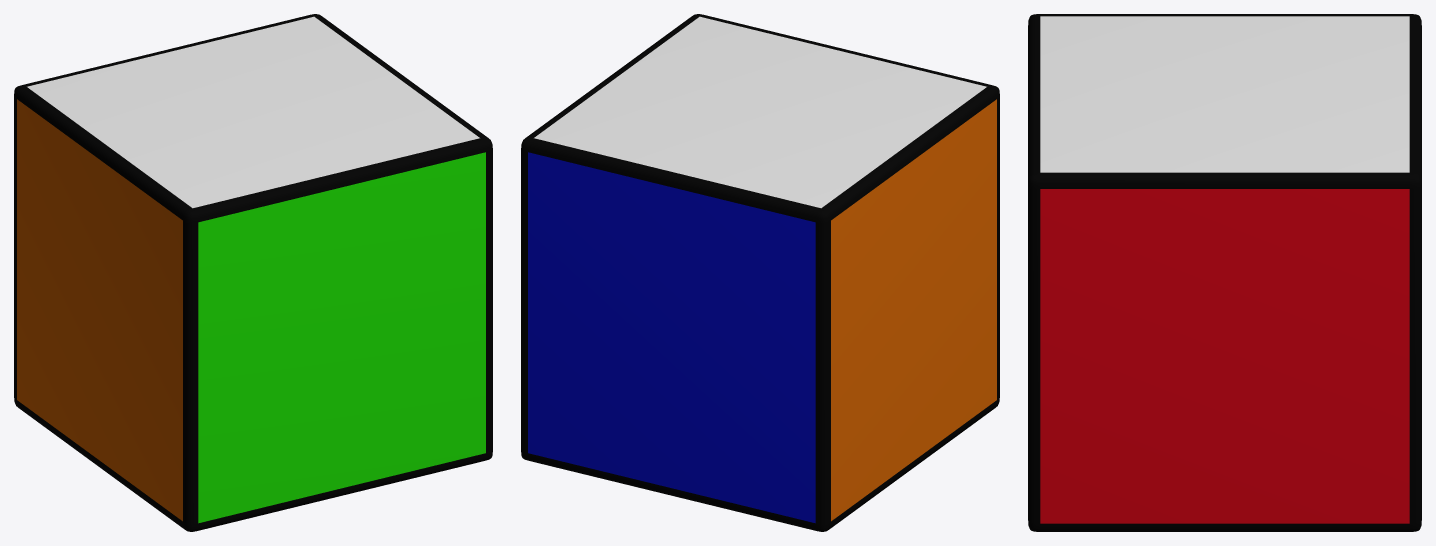
Rendered from RubixFBX.fbx.
3 renders of one model, left to right at view 1: azimuth 30°, elevation 25°; view 2: azimuth 150°, elevation 25°; view 3: azimuth 270°, elevation 25°, orthographic. The views are drawn at different scales.
Parts seen in each view (by area): view 1: Rubix; view 2: Rubix; view 3: Rubix.
Boxes of the visible parts, <box> form: Rubix: <box>14,14,492,531</box>; Rubix: <box>521,14,999,531</box>; Rubix: <box>1028,14,1421,531</box>.
Size of the model in its own units: 200 by 200 by 200.
